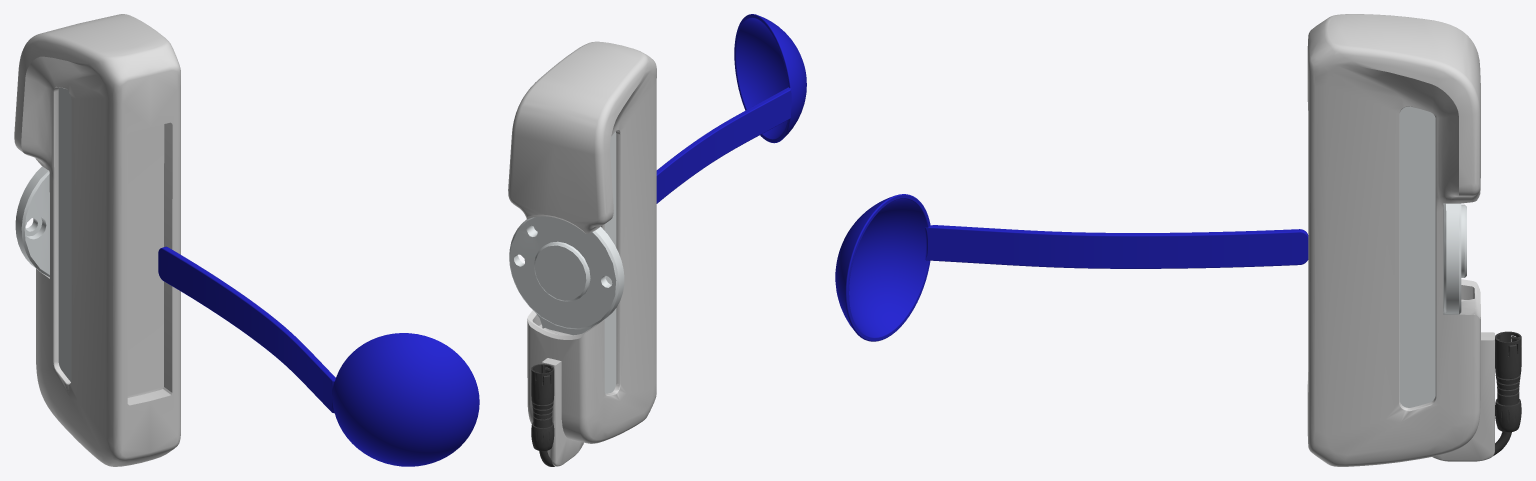
File: mount_hand.obj
3 views of the same model, side by side, from view 1: azimuth 30°, elevation 25°; view 2: azimuth 150°, elevation 25°; view 3: azimuth 270°, elevation 25° (orthographic). The views are drawn at different scales.
Visible parts, largest first — view 1: node5_Part__Feature005.005, mesh29, node5_001_Part__Feature005.000, node2_Part__Feature002.011; view 2: node5_Part__Feature005.005, node2_Part__Feature002.011, mesh29, node0_Part__Feature.011, node5_001_Part__Feature005.000; view 3: node5_Part__Feature005.005, mesh29, node5_001_Part__Feature005.000, node0_Part__Feature.011, node2_Part__Feature002.011.
Boxes of the visible parts, x1,y1,x2,y2 form: node5_Part__Feature005.005: (14,14,180,466); mesh29: (158,246,479,466); node5_001_Part__Feature005.000: (58,87,71,381); node2_Part__Feature002.011: (15,166,49,277); node5_Part__Feature005.005: (508,41,656,466); node2_Part__Feature002.011: (509,216,624,335); mesh29: (656,14,806,203); node0_Part__Feature.011: (531,364,554,451); node5_001_Part__Feature005.000: (604,131,616,393); node5_Part__Feature005.005: (1307,14,1494,466); mesh29: (835,194,1308,341); node5_001_Part__Feature005.000: (1399,106,1435,407); node0_Part__Feature.011: (1495,331,1521,432); node2_Part__Feature002.011: (1443,203,1466,314).
Bounding box in the file's own units: 0.0857 × 0.2045 × 0.295.
